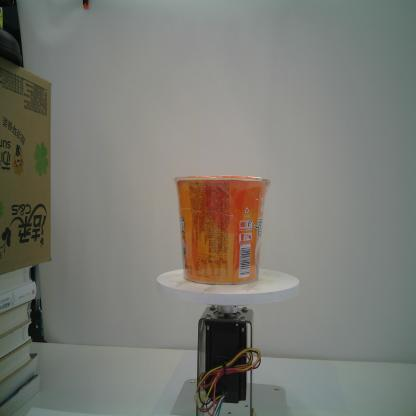Instant Noodles: (174, 175, 270, 285)
